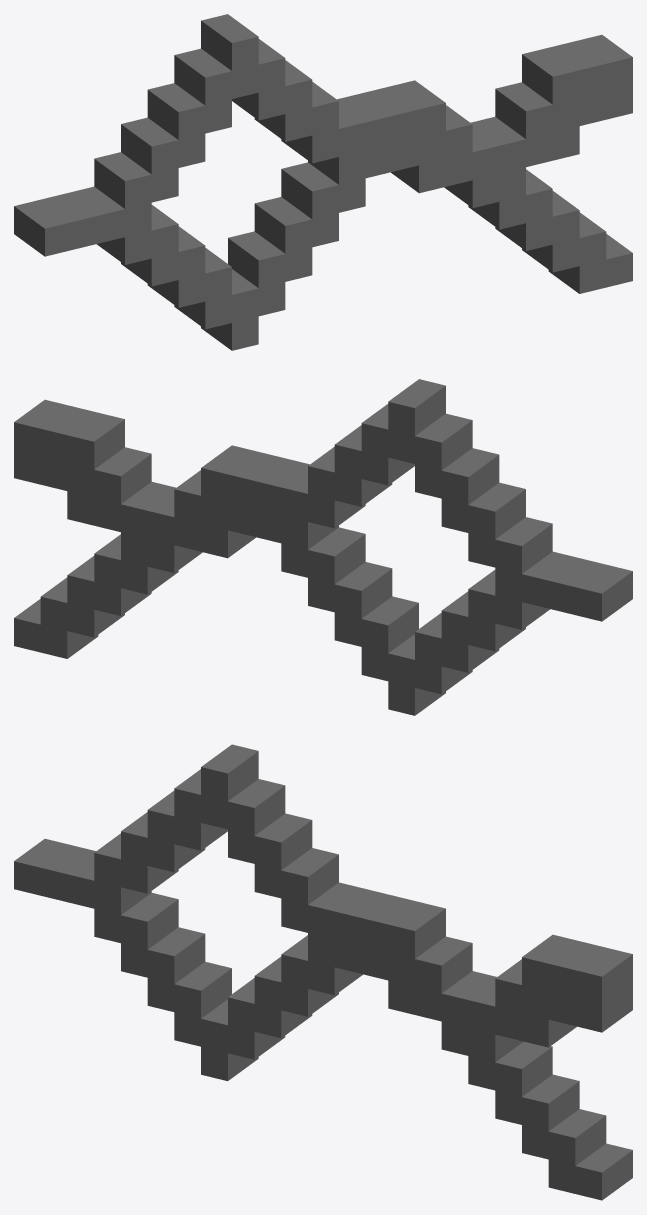
Rendered from Flagpoll_thing_1.obj.
The picture shows the model from 3 angles, top to bottom: view 1: azimuth 30°, elevation 25°; view 2: azimuth 150°, elevation 25°; view 3: azimuth 330°, elevation 25°; orthographic projection.
Visible parts, largest first — view 1: Flagpoll_thing_1; view 2: Flagpoll_thing_1; view 3: Flagpoll_thing_1.
Part boxes in pixels (x1,y1,x2,y2): Flagpoll_thing_1: [14, 14, 632, 350]; Flagpoll_thing_1: [14, 379, 632, 715]; Flagpoll_thing_1: [14, 744, 632, 1200].
Size of the model in its own units: 22 by 12 by 2.
1 material, 1 textured.
